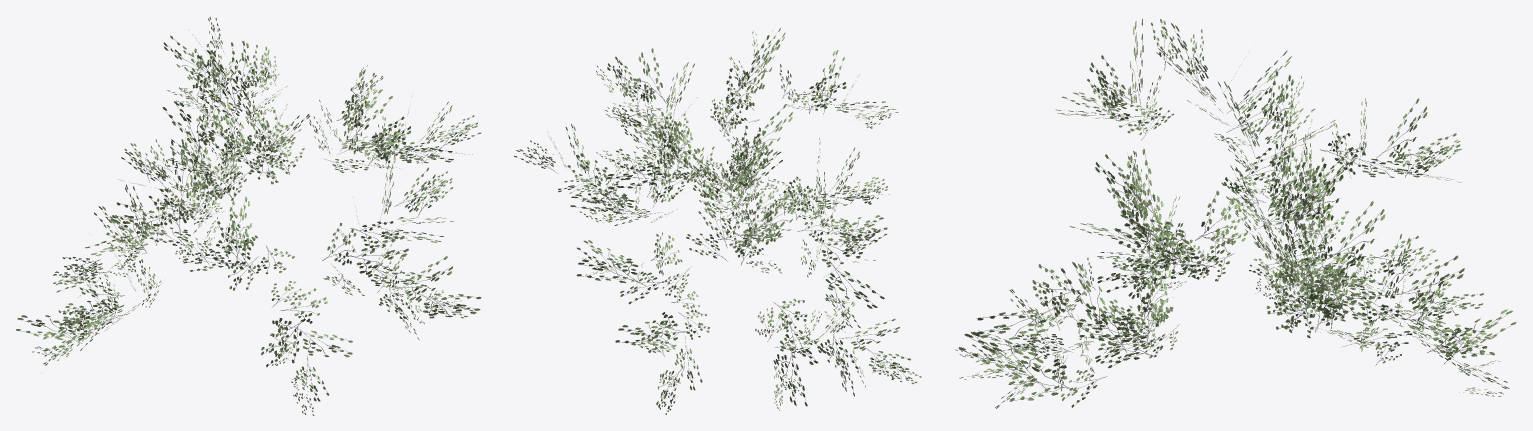
Rendered from leaves.fbx.
The picture shows the model from 3 angles, left to right: view 1: azimuth 30°, elevation 25°; view 2: azimuth 150°, elevation 25°; view 3: azimuth 270°, elevation 25°; orthographic projection. The views are drawn at different scales.
Visible parts, largest first — view 1: pasted__Tree_1; view 2: pasted__Tree_1; view 3: pasted__Tree_1.
Part boxes in pixels (x1=…): pasted__Tree_1: x1=16, y1=17, x2=481, y2=415; pasted__Tree_1: x1=514, y1=28, x2=921, y2=414; pasted__Tree_1: x1=955, y1=18, x2=1516, y2=408.
Size of the model in its own units: 22.88 by 17.89 by 22.75.
Materials: 1 (1 with a texture image).
